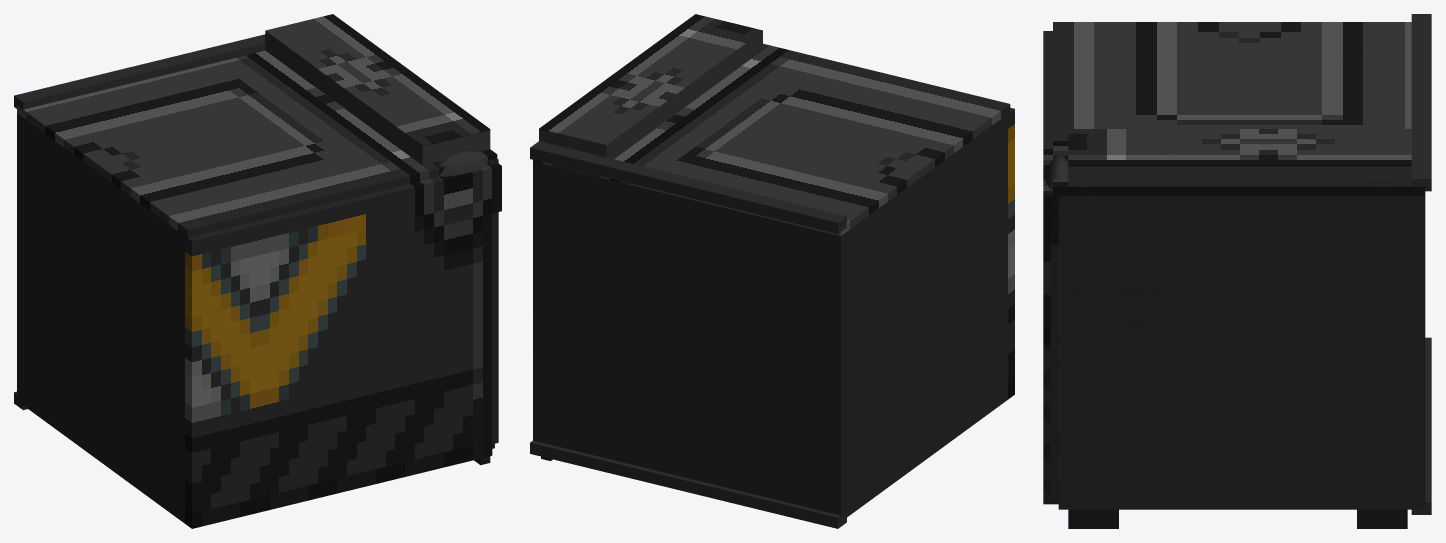
The model's file is CMU3DFreightAU14ContainerTartarusRightBlackWY.glb.
3 views of the same model, side by side, from view 1: azimuth 30°, elevation 25°; view 2: azimuth 150°, elevation 25°; view 3: azimuth 270°, elevation 25° (orthographic). The views are drawn at different scales.
Parts seen in each view (by area): view 1: painted front panel, closed cargo shell, source-painted lid, source-painted locking strap, outer lid strap, rear horizontal frame, outer end wall, rounded strap end; view 2: closed cargo shell, source-painted lid, rear horizontal frame (×2), source-painted locking strap, outer lid strap, painted front panel, outer end wall; view 3: closed cargo shell, source-painted lid, outer end wall, source-painted locking strap, outer lid strap, rear horizontal frame (×2), painted front panel, corner lifting foot (×2), corner frame upright (×2), rounded strap end.
Part boxes in pixels (x1,y1,x2,y2): painted front panel: (184,163,501,528); closed cargo shell: (17,113,494,523); source-painted lid: (17,50,497,237); source-painted locking strap: (265,14,490,146); outer lid strap: (265,32,490,165); rear horizontal frame: (14,34,265,113); outer end wall: (487,158,498,444); rounded strap end: (438,150,487,176); closed cargo shell: (533,114,1007,517); source-painted lid: (533,43,1010,235); rear horizontal frame (×2): (530,141,846,528); source-painted locking strap: (539,14,762,145); outer lid strap: (539,31,762,159); painted front panel: (1008,108,1014,399); outer end wall: (533,160,542,354); closed cargo shell: (1058,196,1425,509); source-painted lid: (1053,22,1425,195); outer end wall: (1050,186,1425,500); source-painted locking strap: (1068,129,1411,166); outer lid strap: (1068,166,1411,186); rear horizontal frame (×2): (1411,14,1431,514); painted front panel: (1043,31,1059,504); corner lifting foot (×2): (1068,509,1407,528); corner frame upright (×2): (1080,182,1395,499); rounded strap end: (1046,155,1068,188).
Bounding box in the file's own units: 1 × 1.03 × 0.995.
10 materials, 3 textured.
